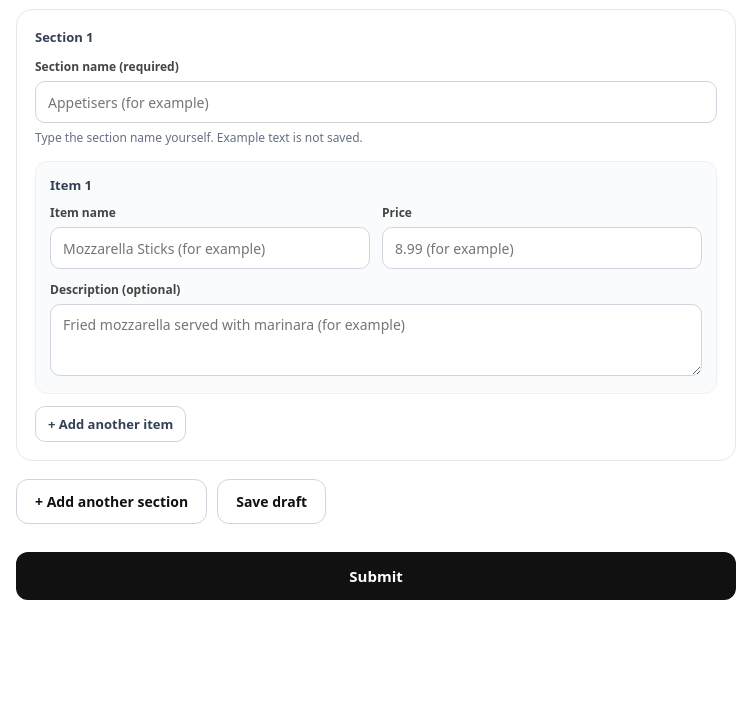
Scenario: ManualMenuEntryPage › removes an additional item and returns to a single stable row
(page scrolled)
Click the button "+ Add another item".
click(111, 424)  # box [35,406,186,442]
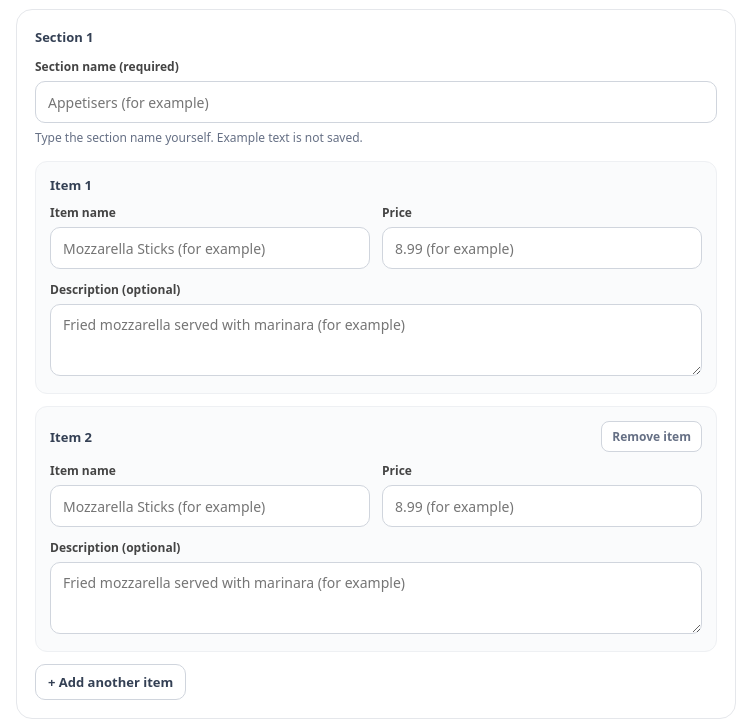
Click the button "Remove item".
click(652, 437)  # box [601,421,702,452]
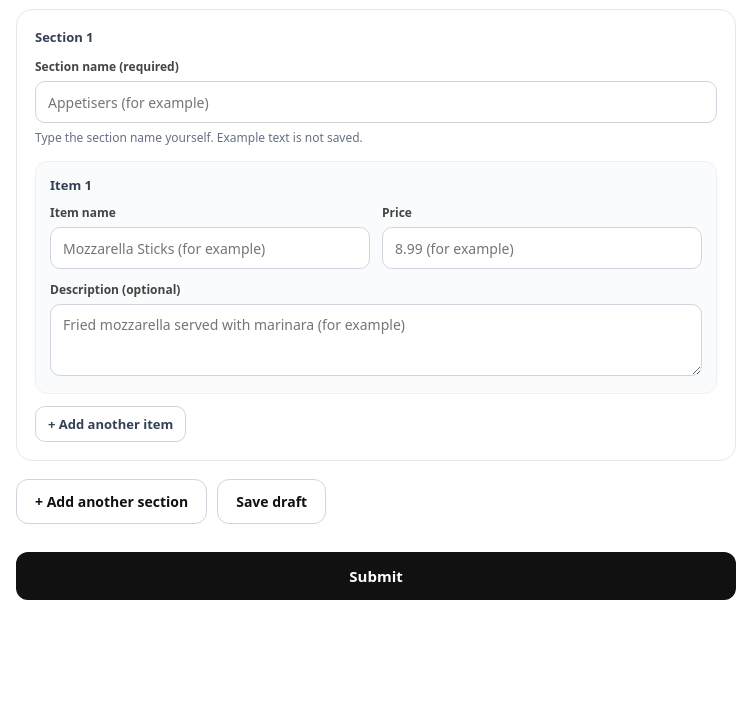
Expected: the number of elements with test id "manual-menu-item-card" is 1, [35,161,717,394]
Expected: the button "Remove item" is gone
